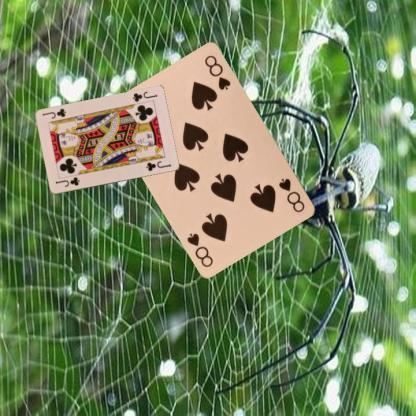8s: (276, 175, 307, 214)
Jc: (52, 174, 81, 188), (130, 89, 158, 103)
